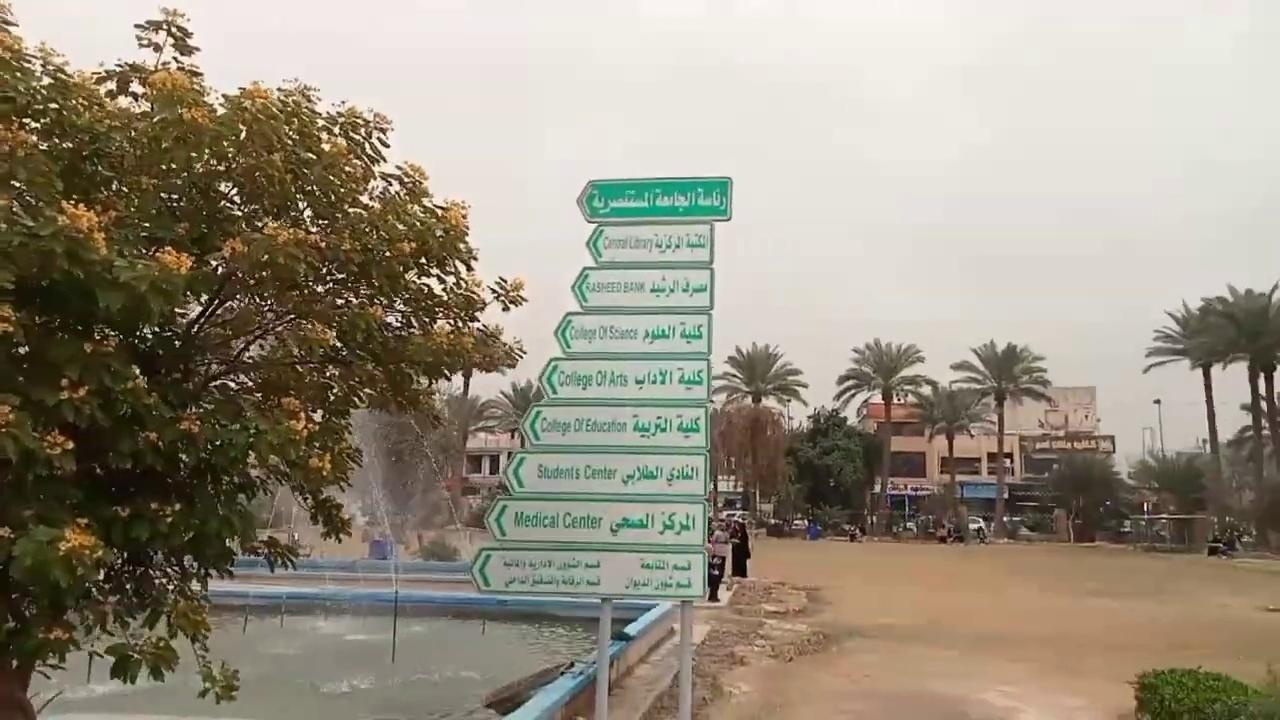car: (947, 515, 988, 543), (967, 516, 986, 534)
fountain: (24, 402, 680, 718), (24, 579, 677, 718)
person: (705, 521, 730, 601), (728, 519, 752, 578), (806, 518, 820, 540), (936, 522, 947, 544)
tree: (0, 2, 529, 717), (1190, 279, 1279, 549), (1142, 297, 1231, 541), (948, 337, 1051, 538), (710, 340, 808, 524), (832, 336, 926, 526), (377, 390, 503, 530), (908, 377, 989, 535), (787, 404, 869, 532), (1128, 448, 1208, 545), (709, 340, 808, 408), (1046, 450, 1118, 543), (476, 378, 543, 445)
